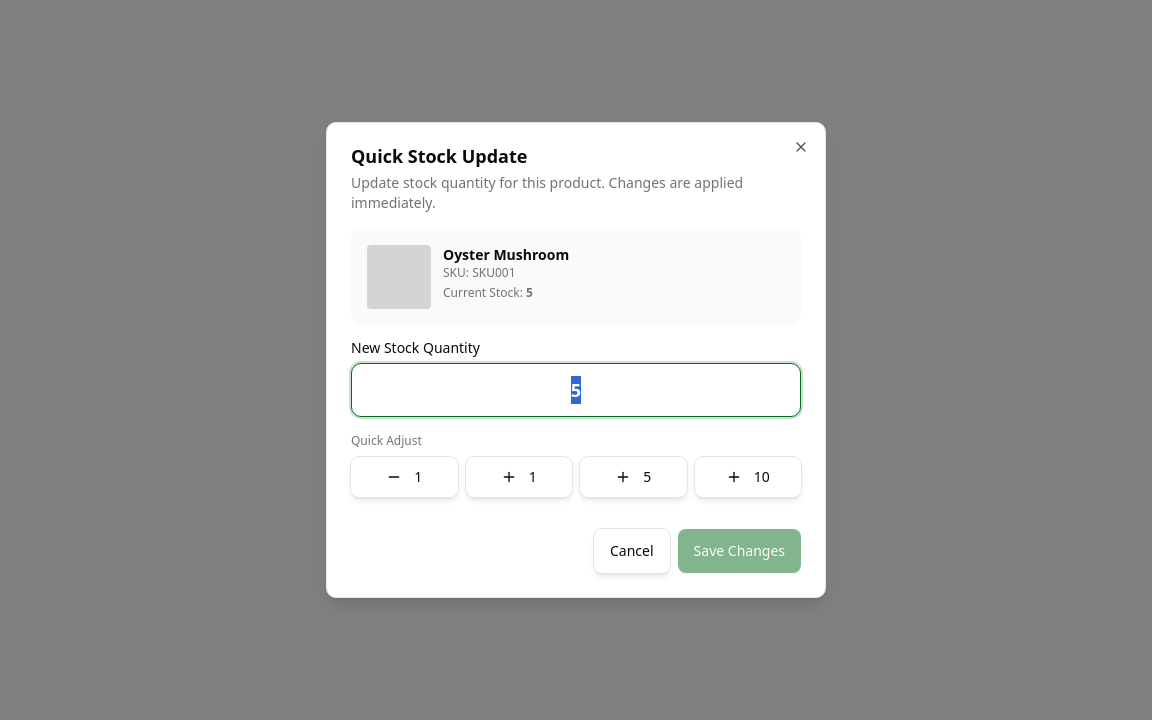
Scenario: QuickStockUpdate › Quick Adjust Buttons › should show change indicator when stock changes
Click the button named "Increase by 5".
click(633, 477)  # box [580,457,686,497]
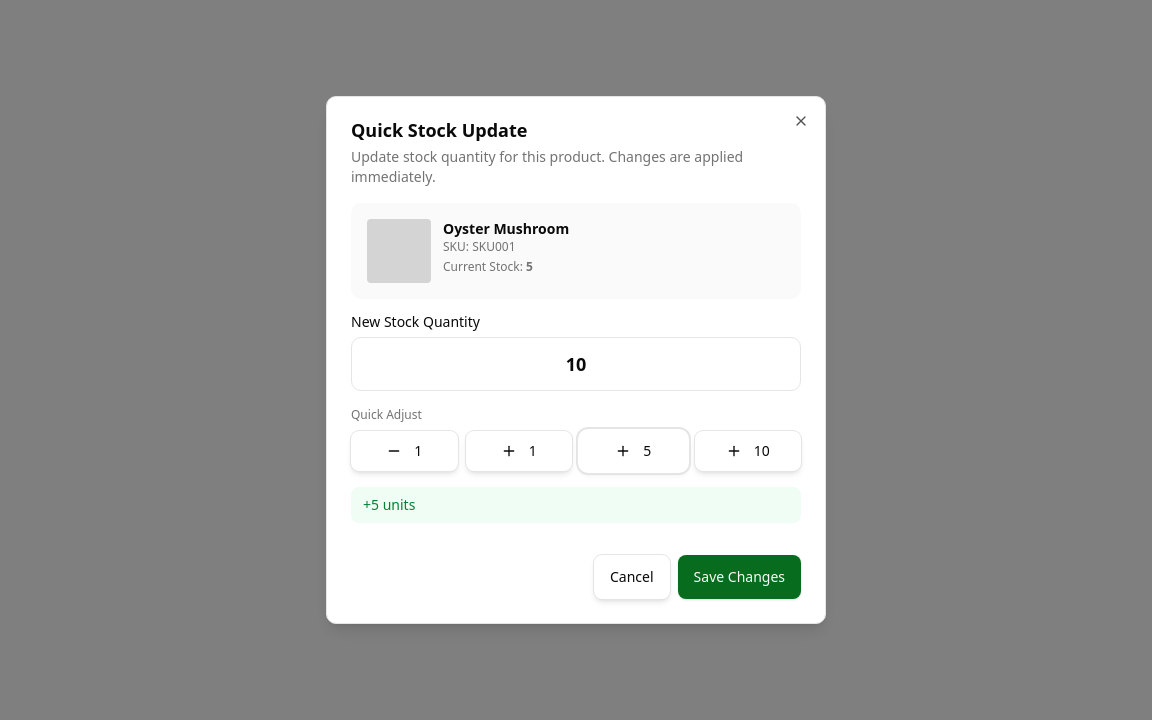
Expected: the text "+5 units" is shown, [351,487,801,523]
